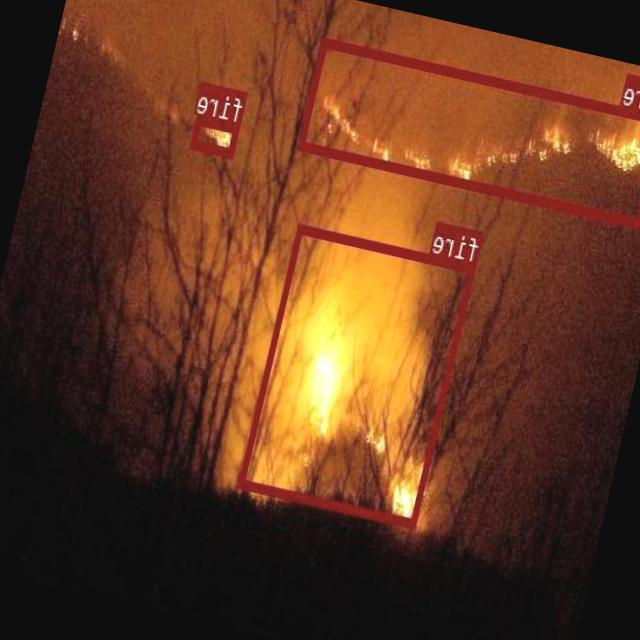fire: (238, 223, 476, 526), (299, 36, 640, 226), (191, 113, 241, 157)
